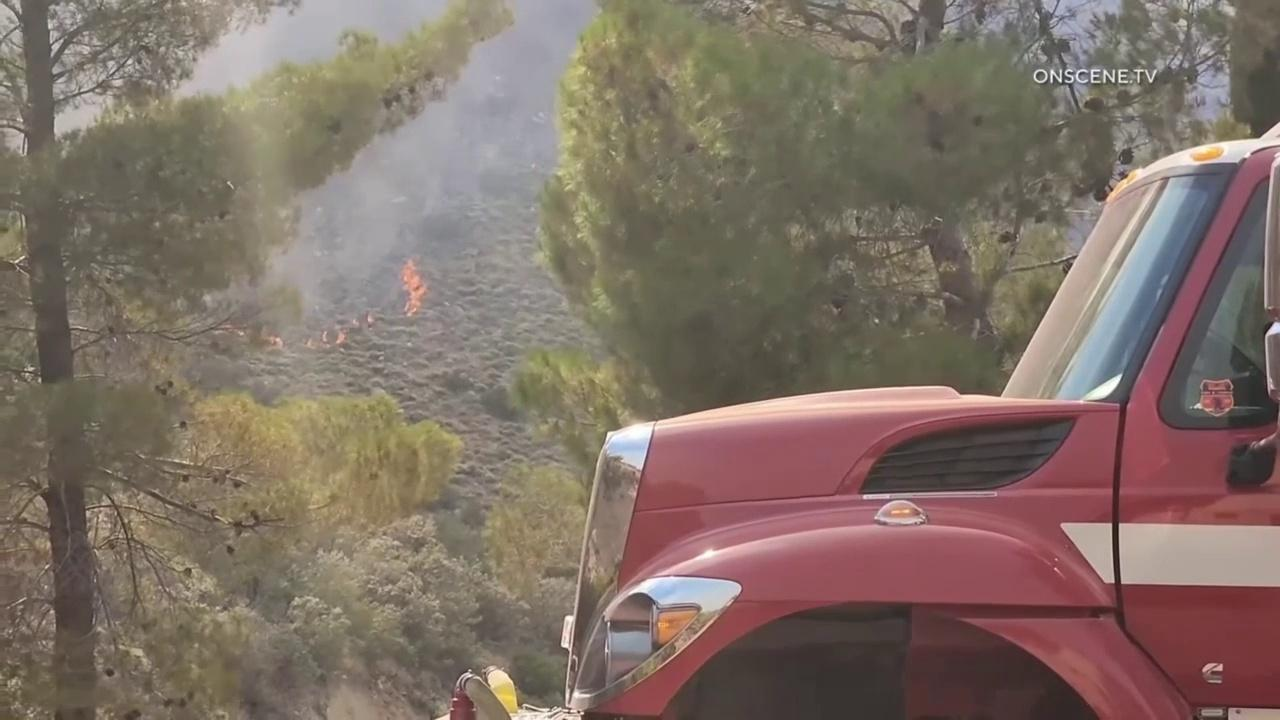fire: (398, 258, 428, 318), (263, 334, 285, 349), (320, 329, 331, 349), (334, 328, 346, 346), (300, 336, 315, 350), (366, 314, 374, 324)
smoke: (53, 0, 601, 316)
